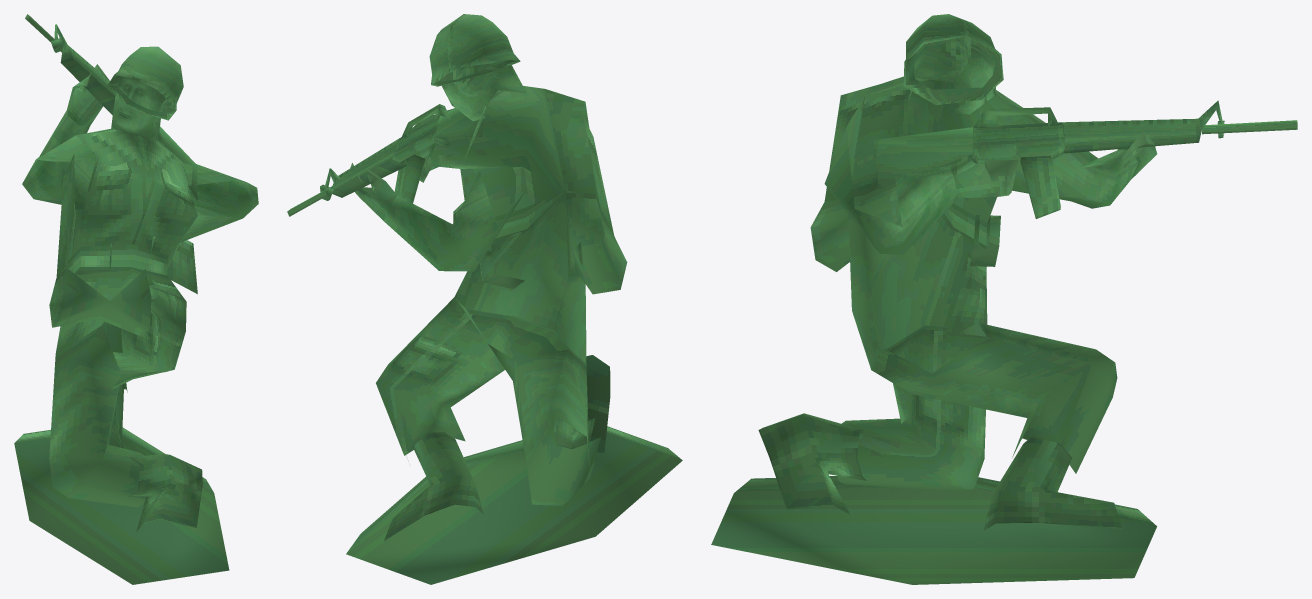
The model's file is ps2_save-icons_armymenmajormalfunction.glb.
3 renders of one model, left to right at view 1: azimuth 30°, elevation 25°; view 2: azimuth 150°, elevation 25°; view 3: azimuth 270°, elevation 25°, orthographic. The views are drawn at different scales.
Parts seen in each view (by area): view 1: Icon1.ico; view 2: Icon1.ico; view 3: Icon1.ico.
Boxes of the visible parts, box(x1,y1,x2,y2) form: Icon1.ico: box(14, 14, 258, 584); Icon1.ico: box(287, 14, 682, 584); Icon1.ico: box(711, 14, 1297, 584).
Bounding box in the file's own units: 2.32 × 4.93 × 4.87.
Materials: 1 (1 with a texture image).
